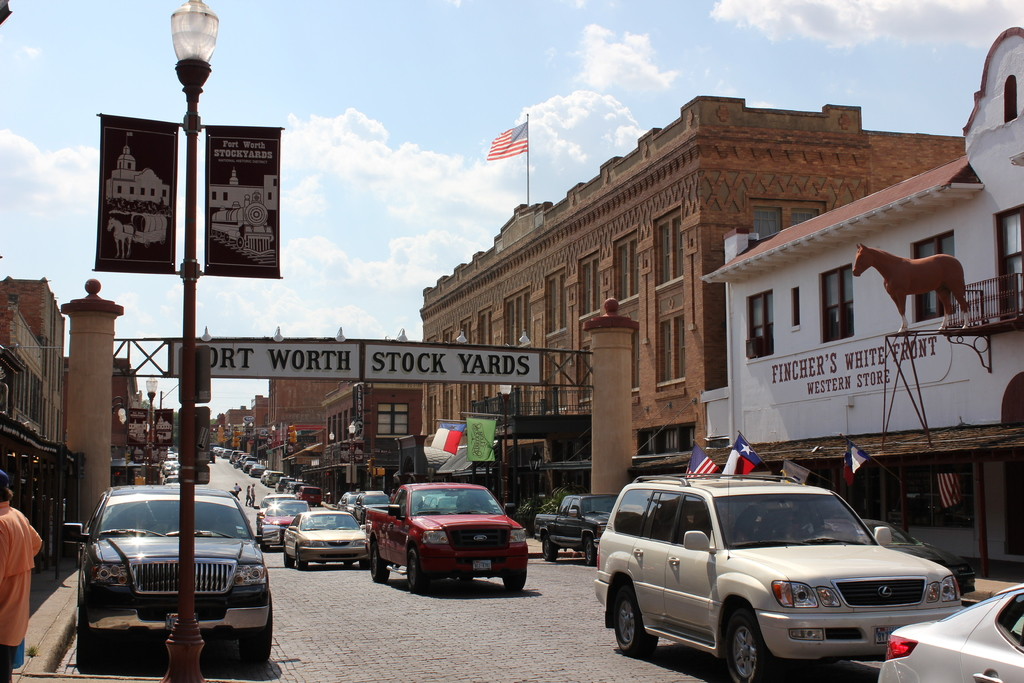car: (580, 425, 966, 674), (54, 472, 282, 663), (352, 456, 556, 603), (868, 553, 1024, 683), (520, 480, 627, 575), (277, 506, 376, 578)
